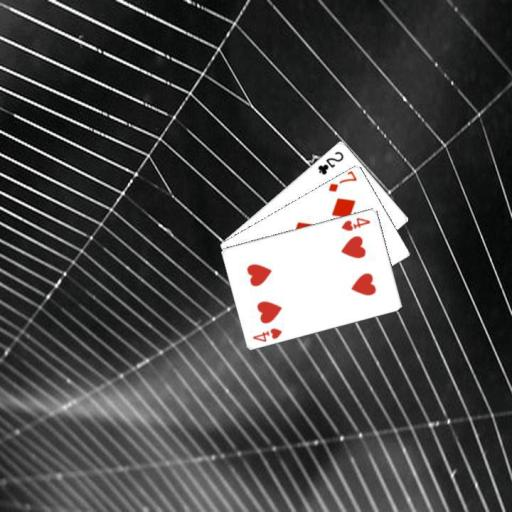2C: (314, 148, 345, 176)
4H: (250, 324, 284, 343), (338, 214, 372, 232)
7D: (325, 169, 358, 194)
